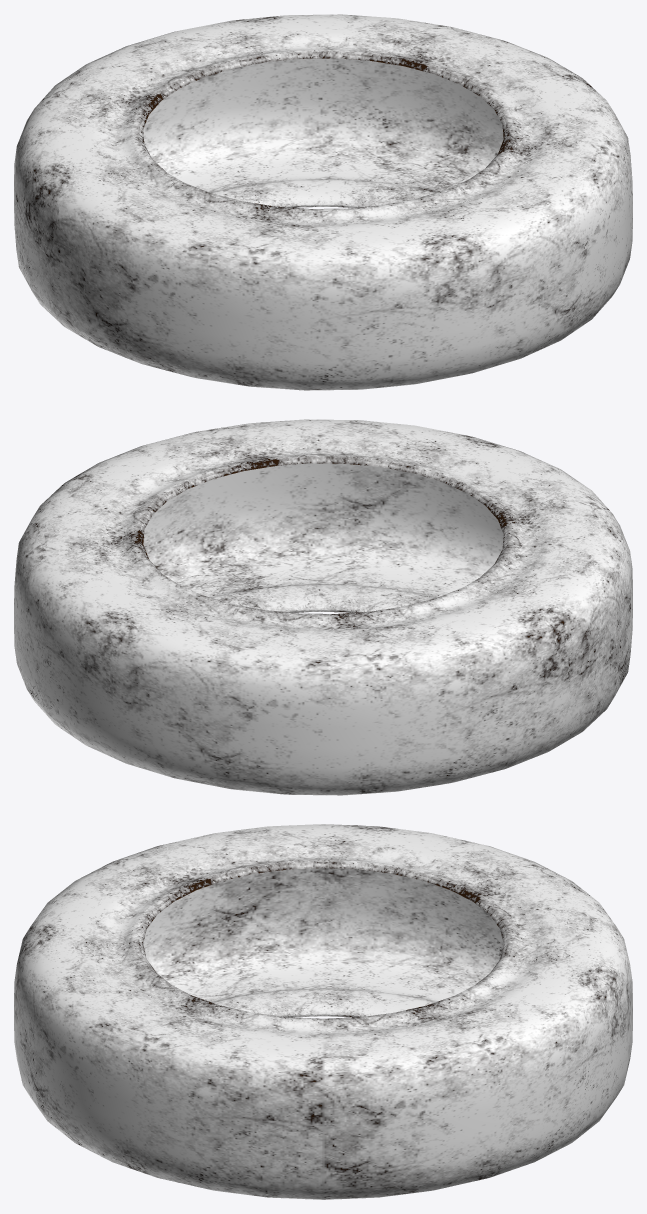
File: TireBarrier_.fbx
3 views of the same model, one above another, from view 1: azimuth 30°, elevation 25°; view 2: azimuth 150°, elevation 25°; view 3: azimuth 270°, elevation 25° (orthographic).
Visible parts, largest first — view 1: TireBarrier_; view 2: TireBarrier_; view 3: TireBarrier_.
Part boxes in pixels (x1,y1,x2,y2): TireBarrier_: [14, 14, 632, 390]; TireBarrier_: [14, 419, 632, 795]; TireBarrier_: [14, 824, 632, 1199].
Size of the model in its own units: 0.576 by 0.1474 by 0.576.
